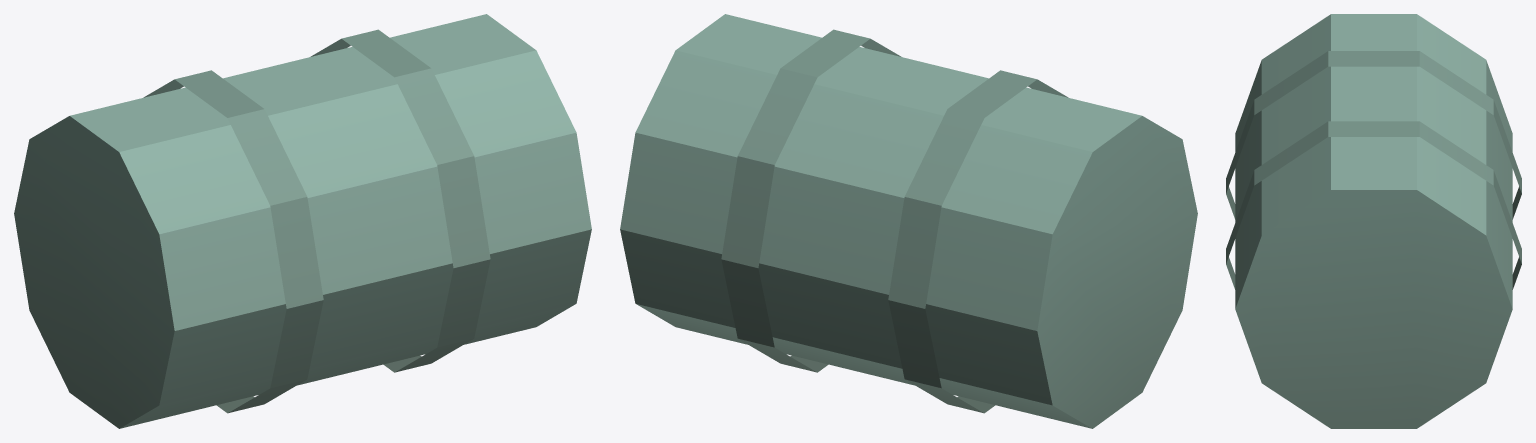
File: barrel_t.glb
3 renders of one model, left to right at view 1: azimuth 30°, elevation 25°; view 2: azimuth 150°, elevation 25°; view 3: azimuth 270°, elevation 25°, orthographic. The views are drawn at different scales.
Parts seen in each view (by area): view 1: barrel_t; view 2: barrel_t; view 3: barrel_t.
Boxes of the visible parts, <box> form: barrel_t: <box>14,14,591,428</box>; barrel_t: <box>620,14,1197,428</box>; barrel_t: <box>1226,14,1521,428</box>.
Bounding box in the file's own units: 0.9 × 0.6087 × 0.64.
